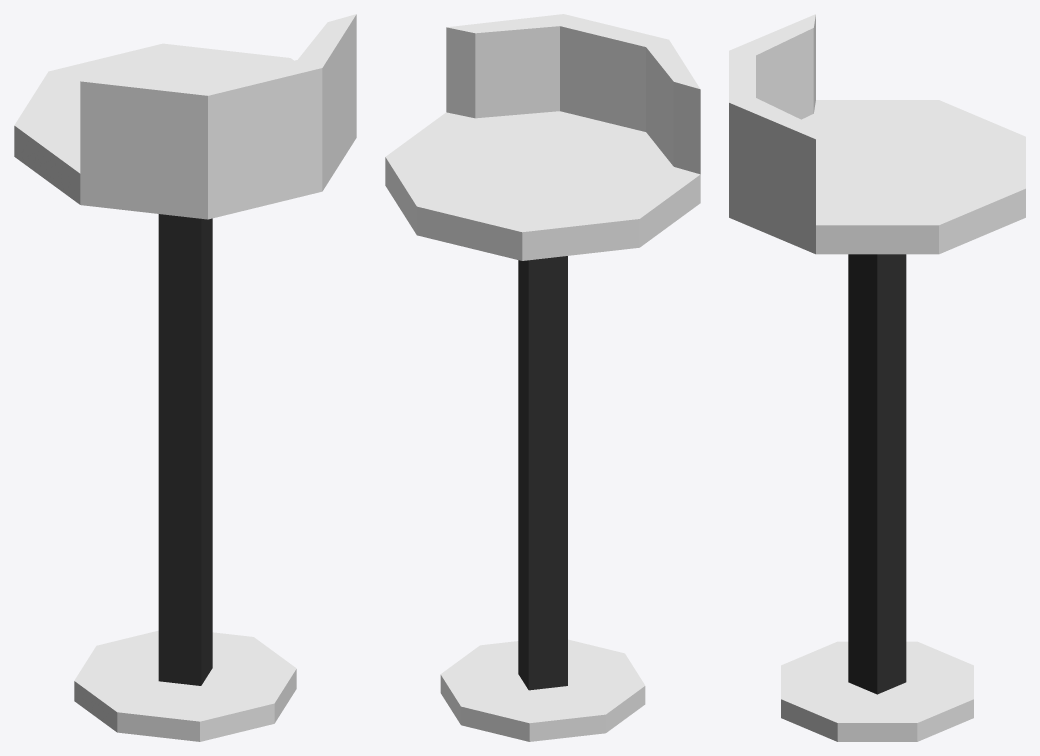
Rendered from Kitchen_Chair_1.fbx.
3 renders of one model, left to right at view 1: azimuth 30°, elevation 25°; view 2: azimuth 150°, elevation 25°; view 3: azimuth 270°, elevation 25°, orthographic. The views are drawn at different scales.
Visible parts, largest first — view 1: polySurface1538; view 2: polySurface1538; view 3: polySurface1538.
Boxes of the visible parts, x1,y1,x2,y2 form: polySurface1538: (14,14,356,741); polySurface1538: (385,14,700,741); polySurface1538: (729,14,1025,741).
Bounding box in the file's own units: 0.4619 × 1.07 × 0.4619.
1 material, 1 textured.
